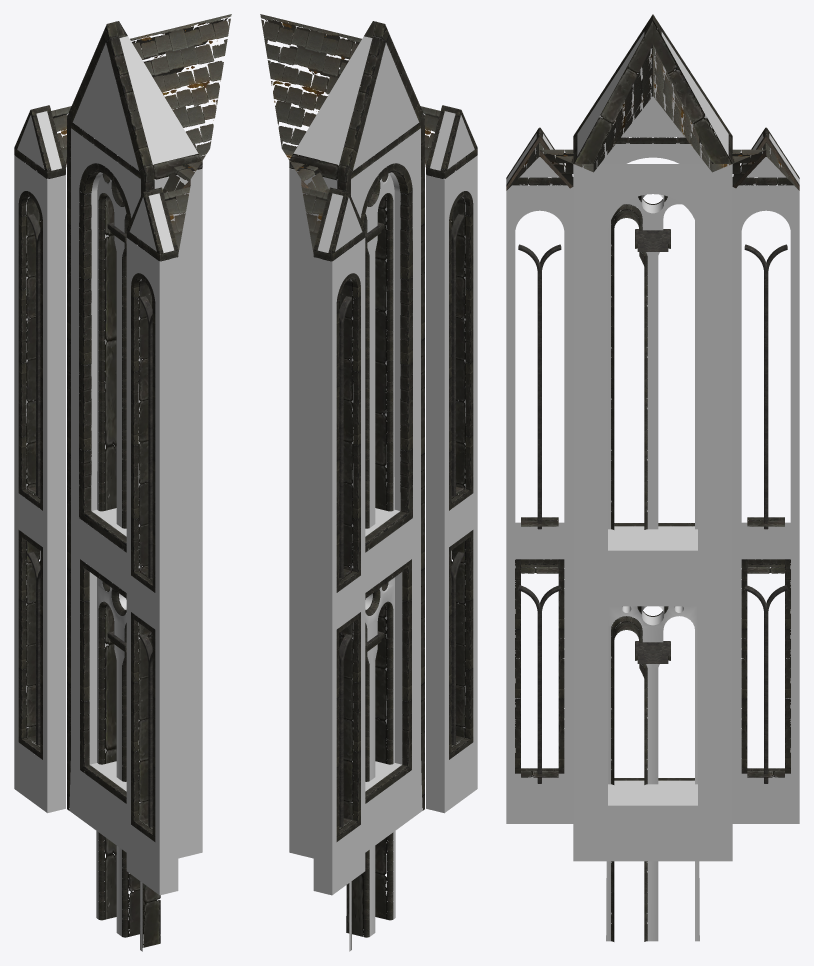
3 views of the same model, side by side, from view 1: azimuth 30°, elevation 25°; view 2: azimuth 150°, elevation 25°; view 3: azimuth 270°, elevation 25° (orthographic).
Visible parts, largest first — view 1: SM_Greathall_Tower_01_LOD0; view 2: SM_Greathall_Tower_01_LOD0; view 3: SM_Greathall_Tower_01_LOD0.
Boxes of the visible parts, <box> form: SM_Greathall_Tower_01_LOD0: <box>14,14,231,951</box>; SM_Greathall_Tower_01_LOD0: <box>260,14,477,951</box>; SM_Greathall_Tower_01_LOD0: <box>506,14,799,941</box>.
Bounding box in the file's own units: 6.31 × 38.1 × 10.99.
4 materials, 3 textured.
